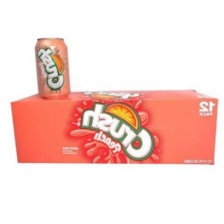can: (28, 32, 75, 102)
